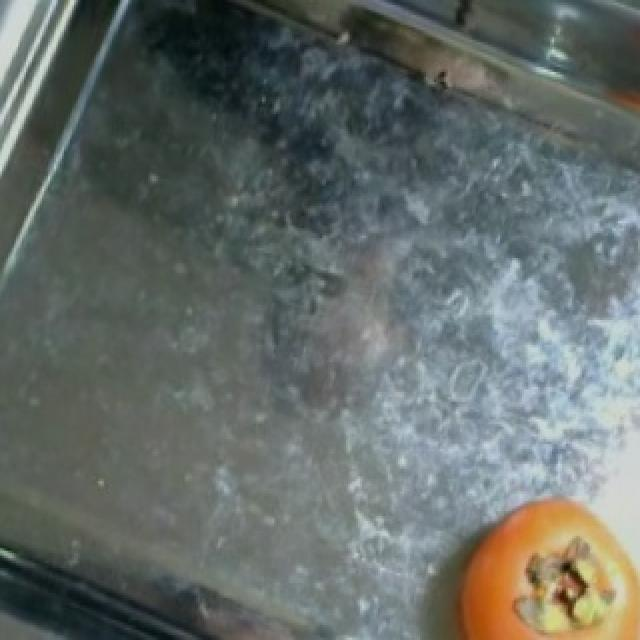Fruit: (414, 476, 640, 640)
